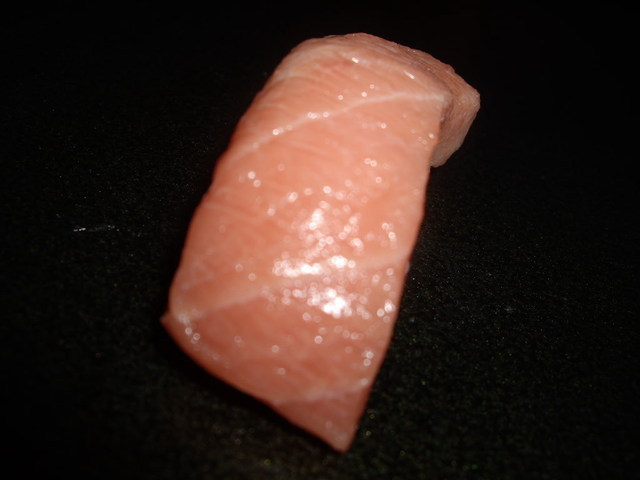medium_fatty_tuna: (168, 29, 485, 463)
